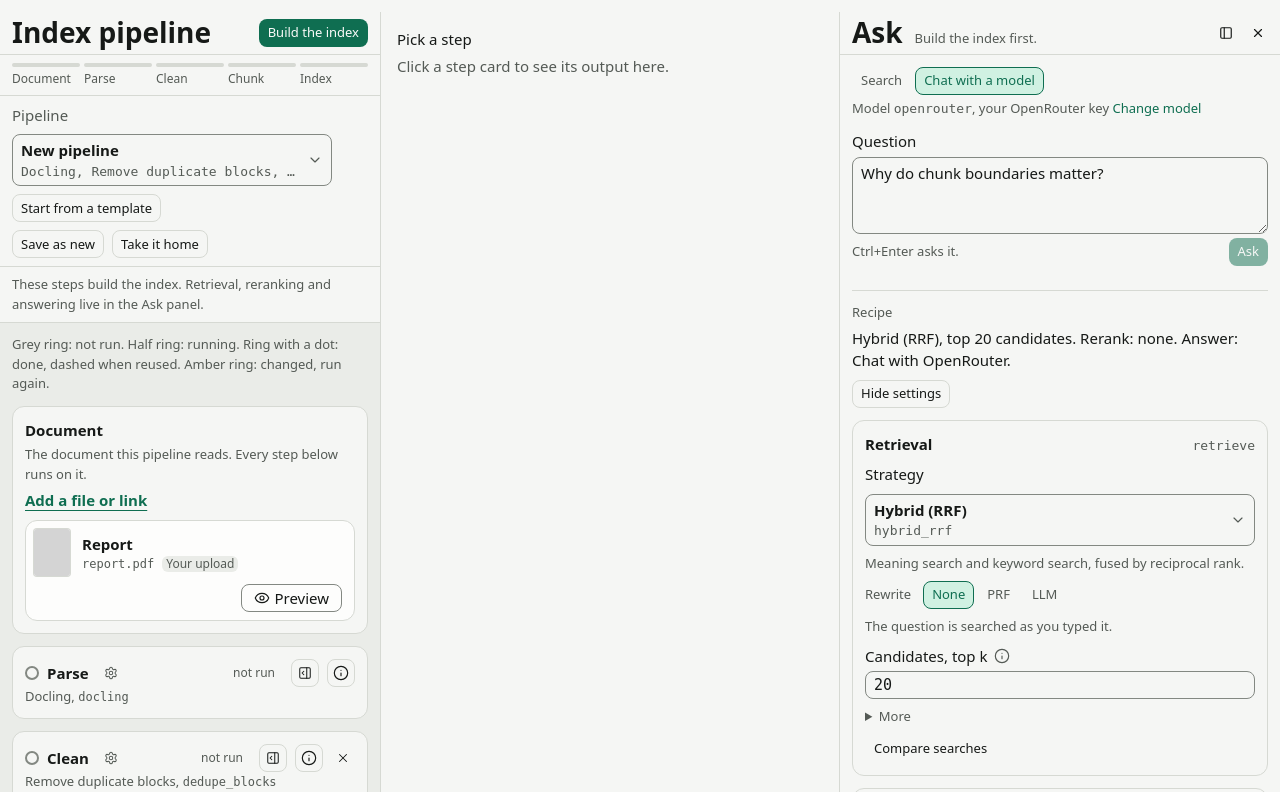
Test case: Ask with a chat card and no API key › a chat set to OpenRouter needs the OpenRouter key: an Anthropic key alone stops before Chat, and the note names it
Step 1. Click the button "Build the index" → (313, 33), box [259,19,368,47]
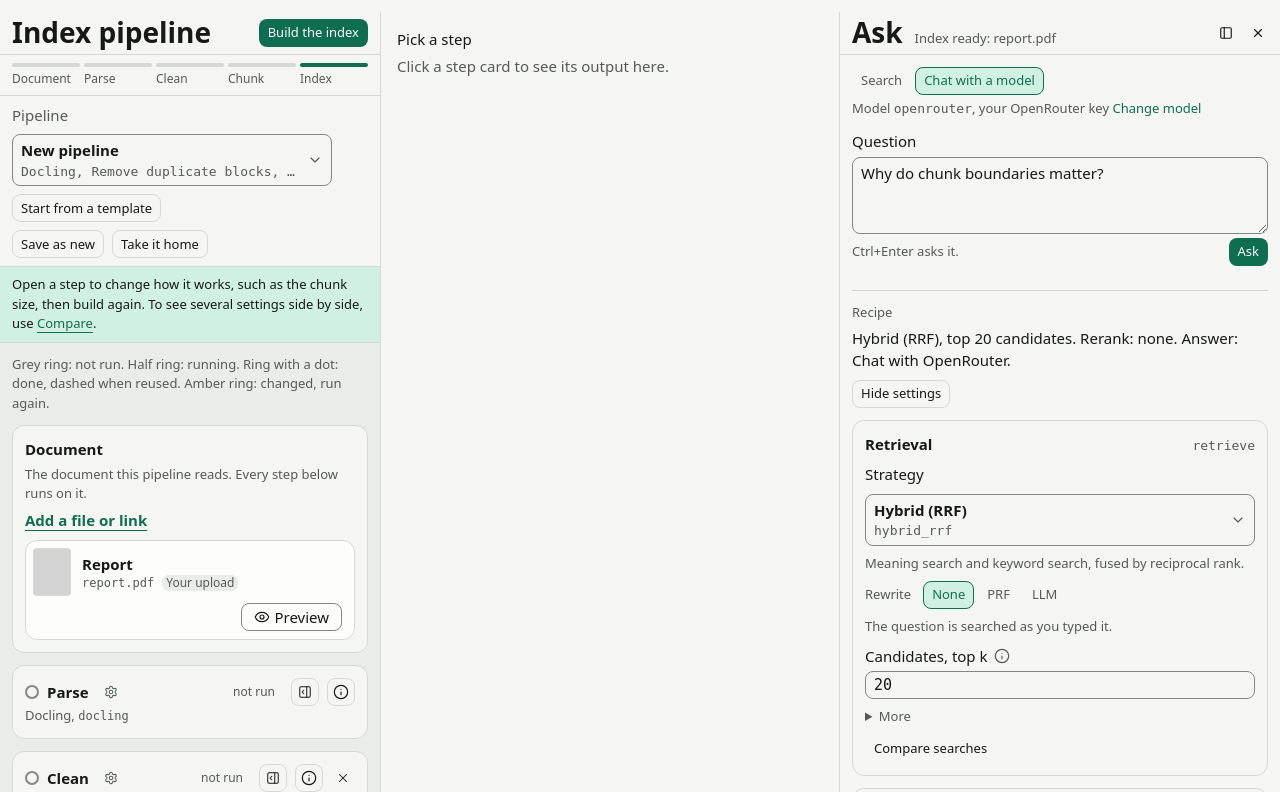
Check: the button "Ask" is enabled
Step 2. Click the button "Ask" → (1248, 252), box [1228,238,1268,266]
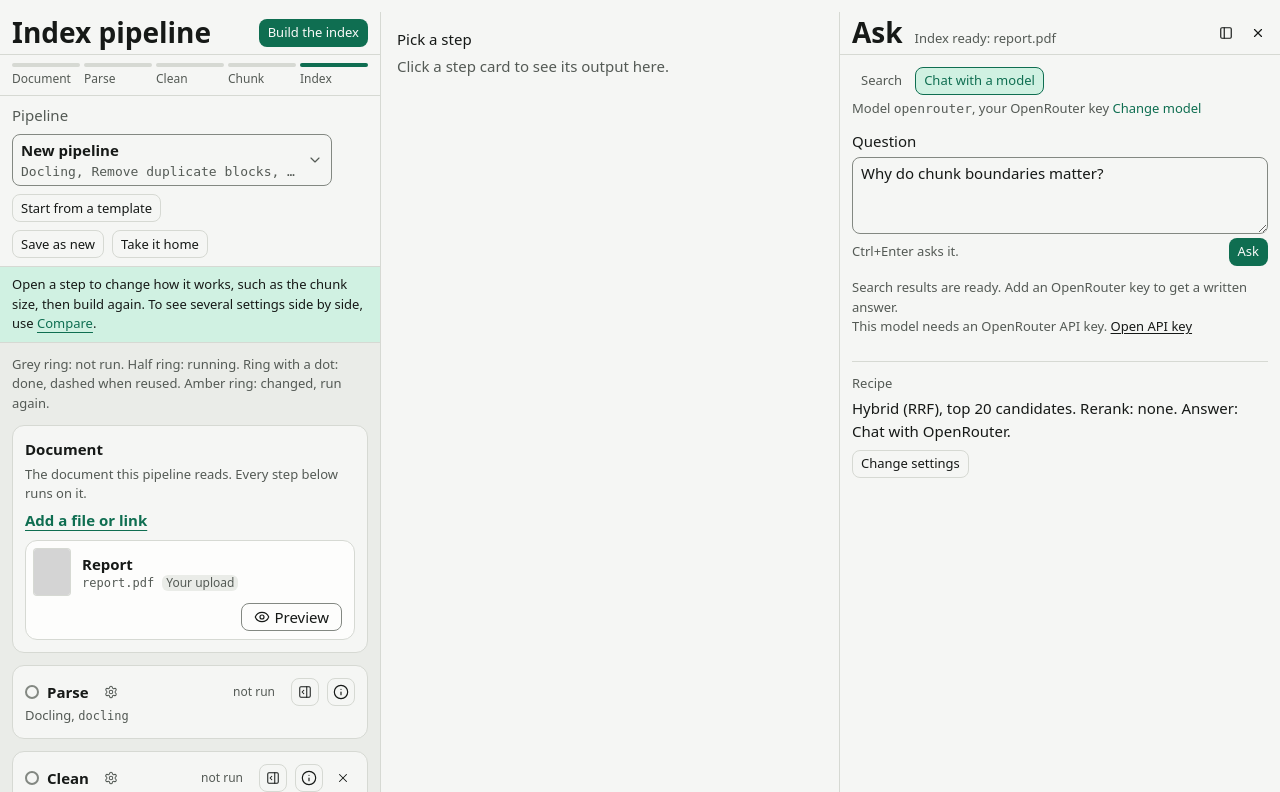
Check: the element with test id "key-hint" shows "OpenRouter API key", box [852,317,1107,335]
